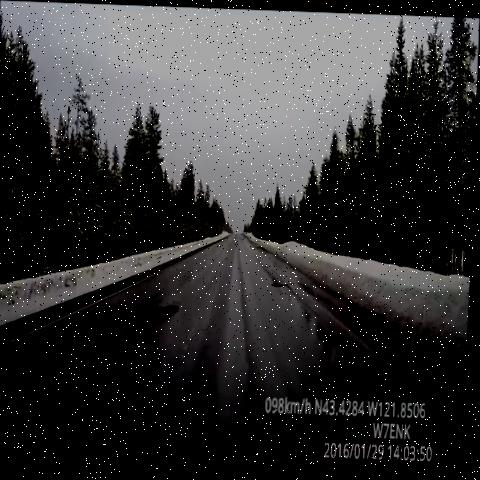pothole: (150, 299, 186, 329), (272, 268, 302, 295), (145, 285, 165, 310), (240, 232, 250, 247)
